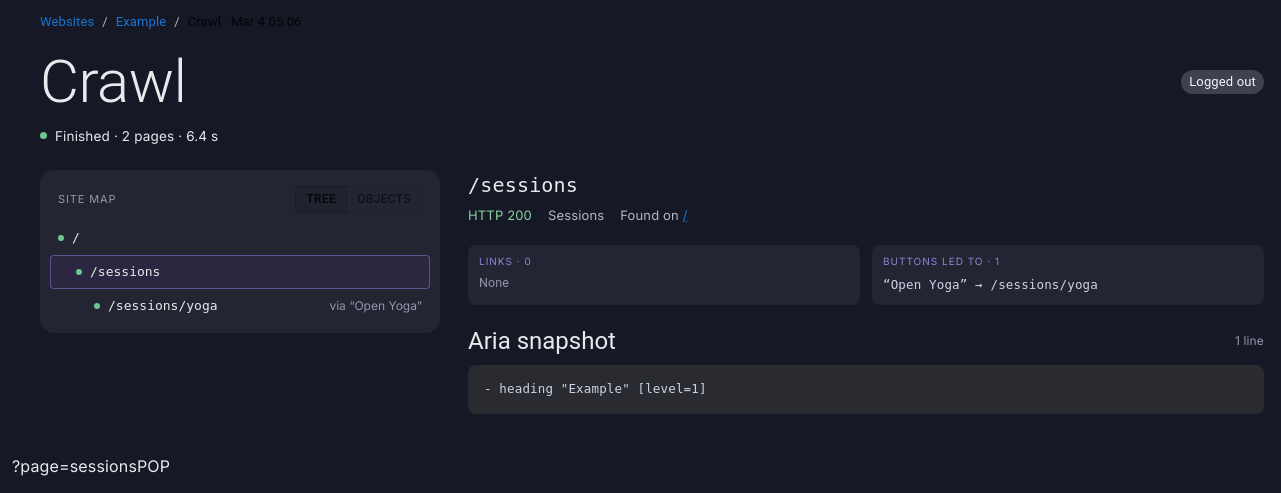
Test: CrawlRunPage › shows a page found by a button with that button, and lists the pages its buttons led to
Expected: the button "/sessions/yoga via “Open Yoga”" is shown, [50, 289, 430, 323]
Click the button "“Open Yoga” → /sessions/yoga" at (990, 286), box [883, 274, 1098, 297]
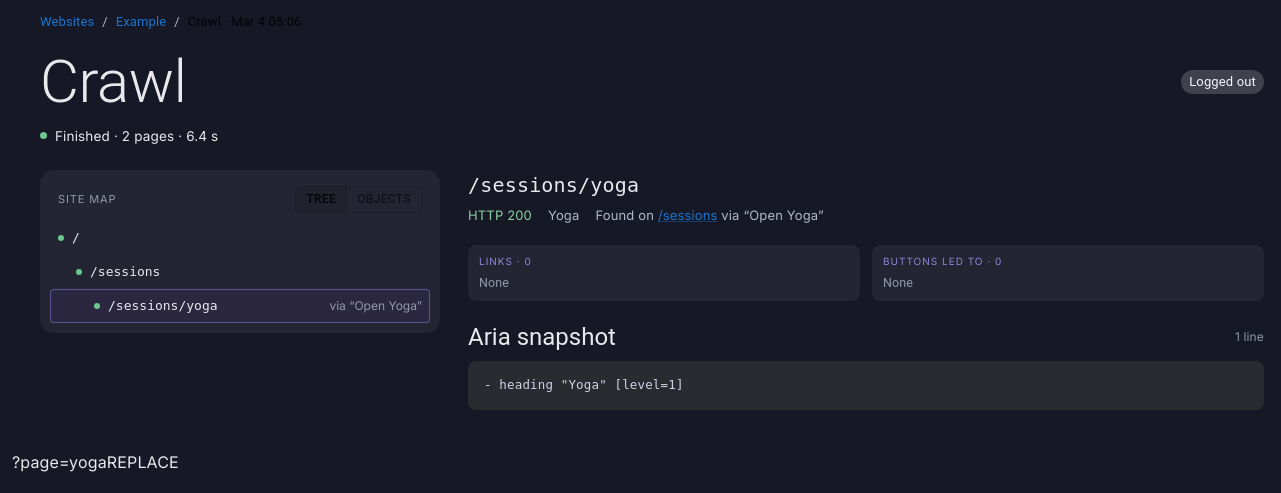
Expected: the text named "Aria snapshot" reads "- heading \"Yoga\" [level=1]", [484, 377, 684, 392]
Expected: the element "/sessions/yoga" shows "Found on /sessions via “Open Yoga”", [468, 170, 1264, 410]
Expected: the text with test id "probe-search" reads "?page=yoga", [12, 452, 107, 472]
